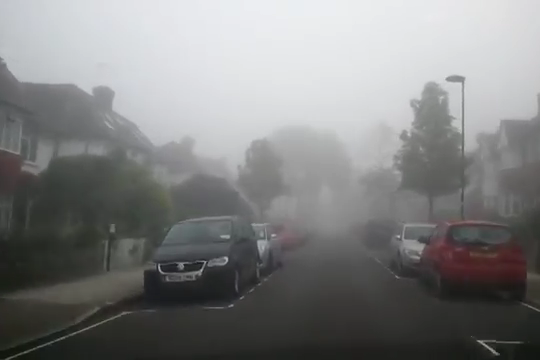car: (143, 215, 258, 299), (418, 219, 526, 299), (390, 217, 451, 277), (229, 221, 284, 273), (360, 215, 399, 250), (261, 219, 305, 250)
